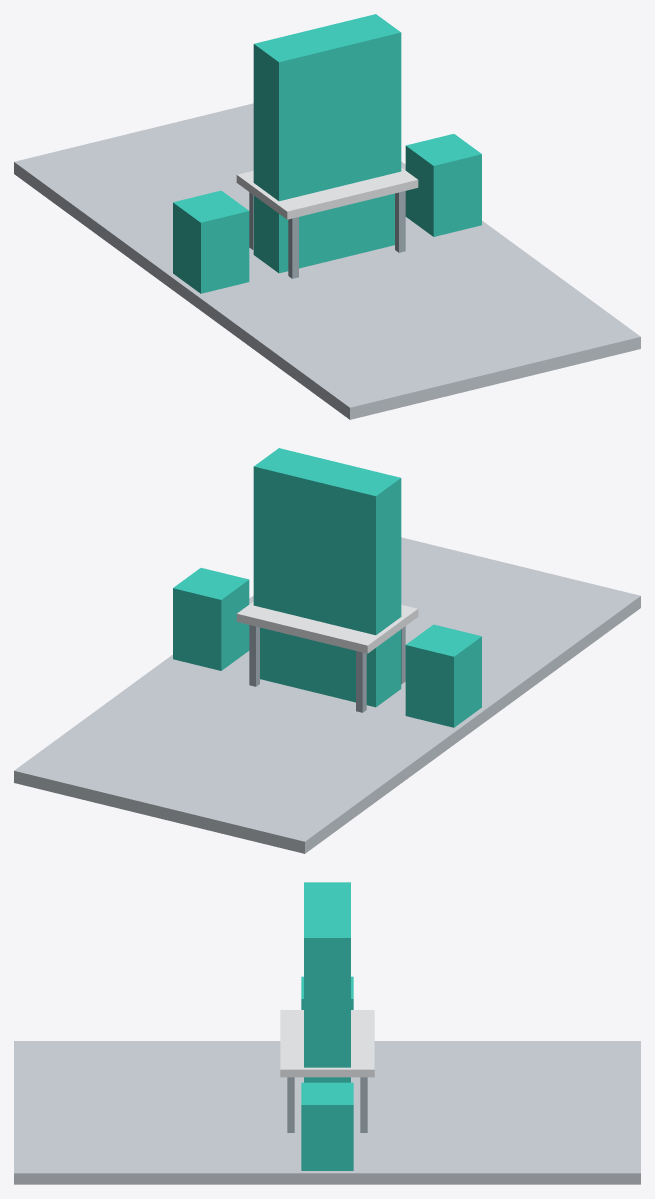
3 renders of one model, top to bottom at view 1: azimuth 30°, elevation 25°; view 2: azimuth 150°, elevation 25°; view 3: azimuth 270°, elevation 25°, orthographic. The views are drawn at different scales.
Visible parts, largest first — view 1: Exhibition Booth Concept; view 2: Exhibition Booth Concept; view 3: Exhibition Booth Concept.
Boxes of the visible parts, left/top/right/bottom form: Exhibition Booth Concept: left=14, top=14, right=640, bottom=419; Exhibition Booth Concept: left=14, top=448, right=640, bottom=853; Exhibition Booth Concept: left=14, top=882, right=640, bottom=1184.
Size of the model in its own units: 3 by 2.2 by 6.
